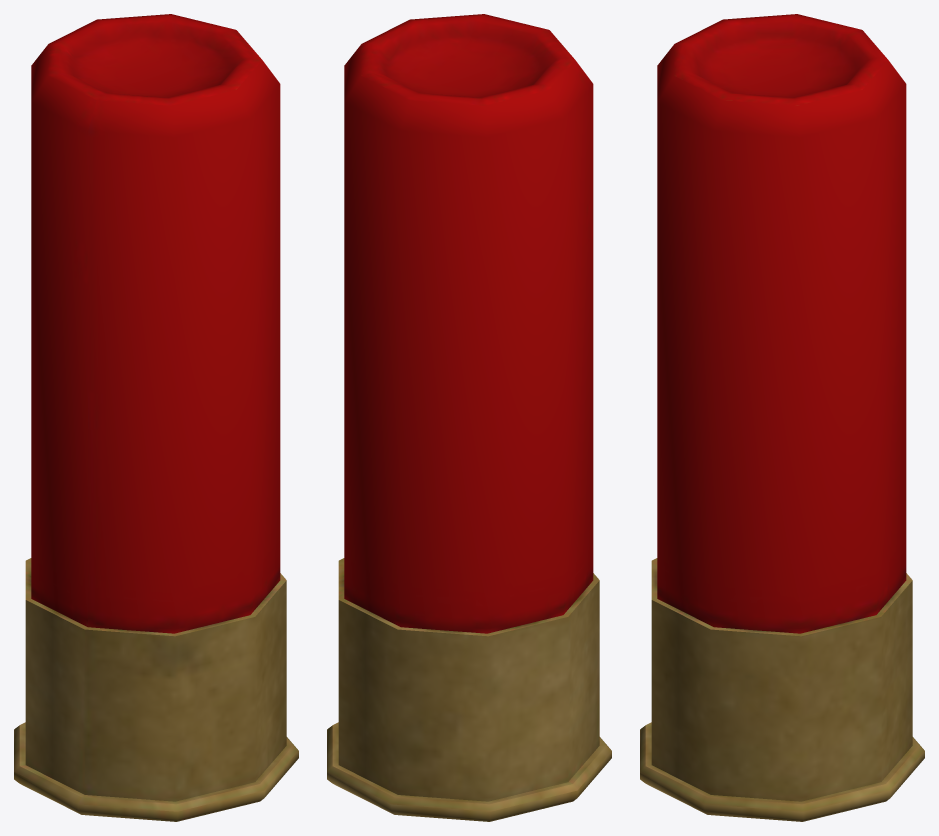
The model's file is 12GaugeShell.FBX.
3 views of the same model, side by side, from view 1: azimuth 30°, elevation 25°; view 2: azimuth 150°, elevation 25°; view 3: azimuth 270°, elevation 25° (orthographic).
Parts seen in each view (by area): view 1: 12GaugeShell; view 2: 12GaugeShell; view 3: 12GaugeShell.
Part boxes in pixels (left/top/right/bottom): 12GaugeShell: left=14, top=14, right=298, bottom=821; 12GaugeShell: left=327, top=14, right=611, bottom=821; 12GaugeShell: left=640, top=14, right=924, bottom=821.
Bounding box in the file's own units: 4.67 × 12.58 × 4.6.
